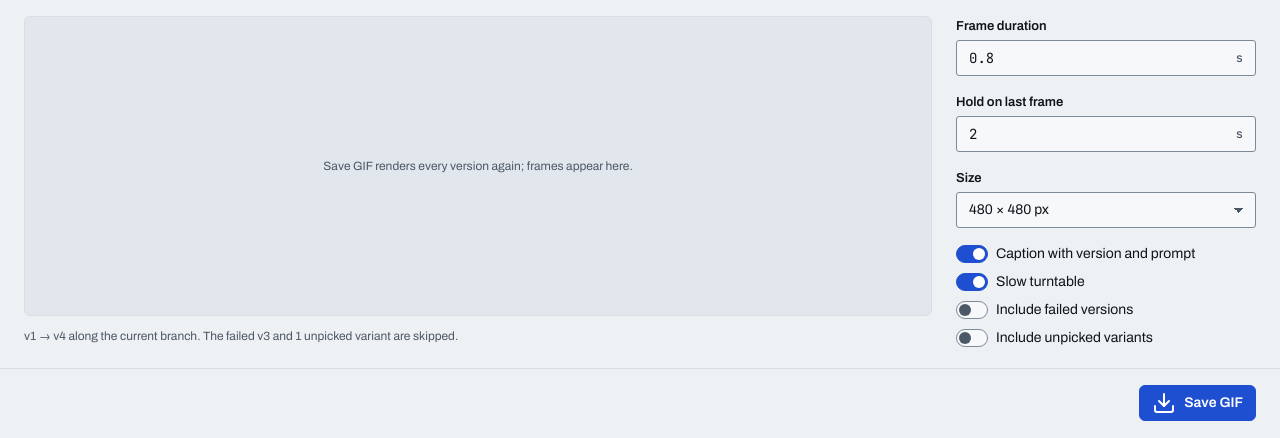
Test case: says which versions were left out because they no longer compile
Expected: the text "along the current branch" is shown, [24,329,458,343]
Click the button "Save GIF" at coordinates (1198, 403), box [1139,385,1256,421]
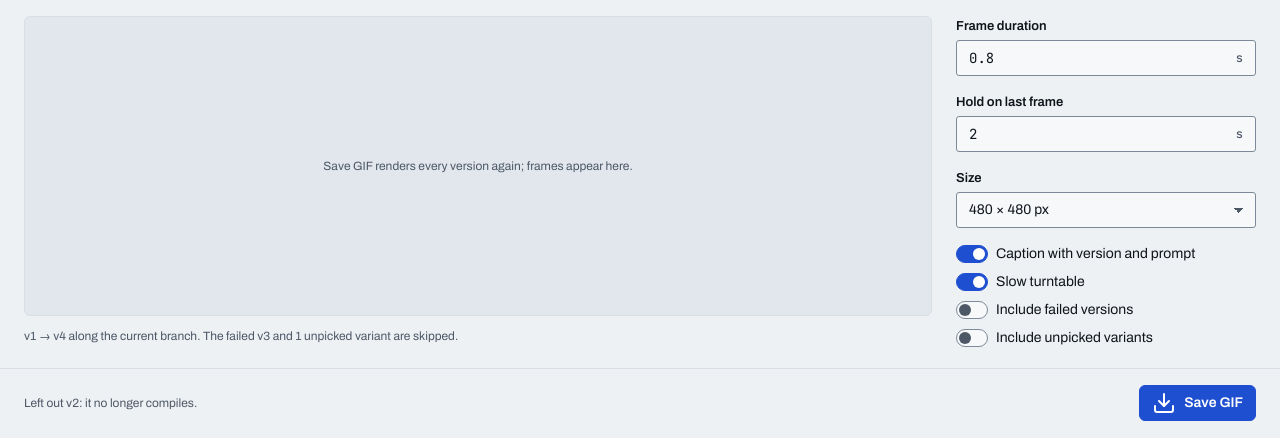
Now the text "Left out v2: it no longer compiles." is shown, box [24,396,197,410]
